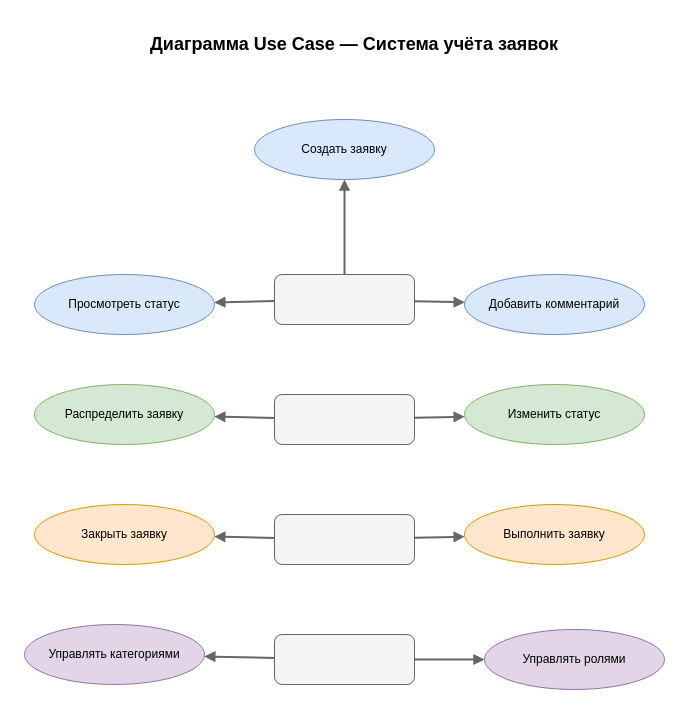
The diagram is 682 pixels wide and 707 high, and some of its shapes have lost their labels. The centre of each missing label's shape, as x and y in pixels:
Администратор: the point at 344,659
Заявитель: the point at 344,299
Исполнитель: the point at 344,539
Оператор: the point at 344,419
